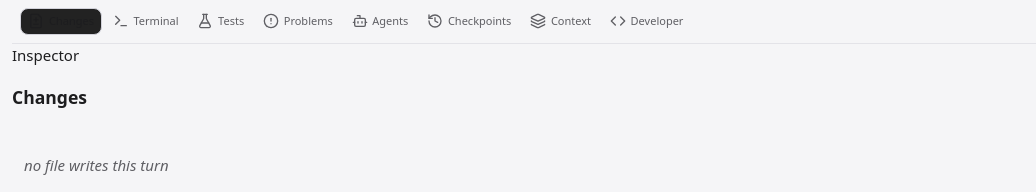
Test: AgentPanel › the Terminal tab says nothing happened yet instead of dressing an empty list
Click the tab "Terminal". click: (146,21)
box: [104, 8, 187, 34]
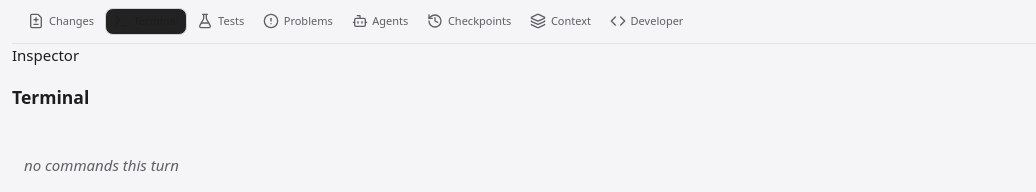
Expected: the panel reads "no commands this turn", [24, 155, 179, 175]
